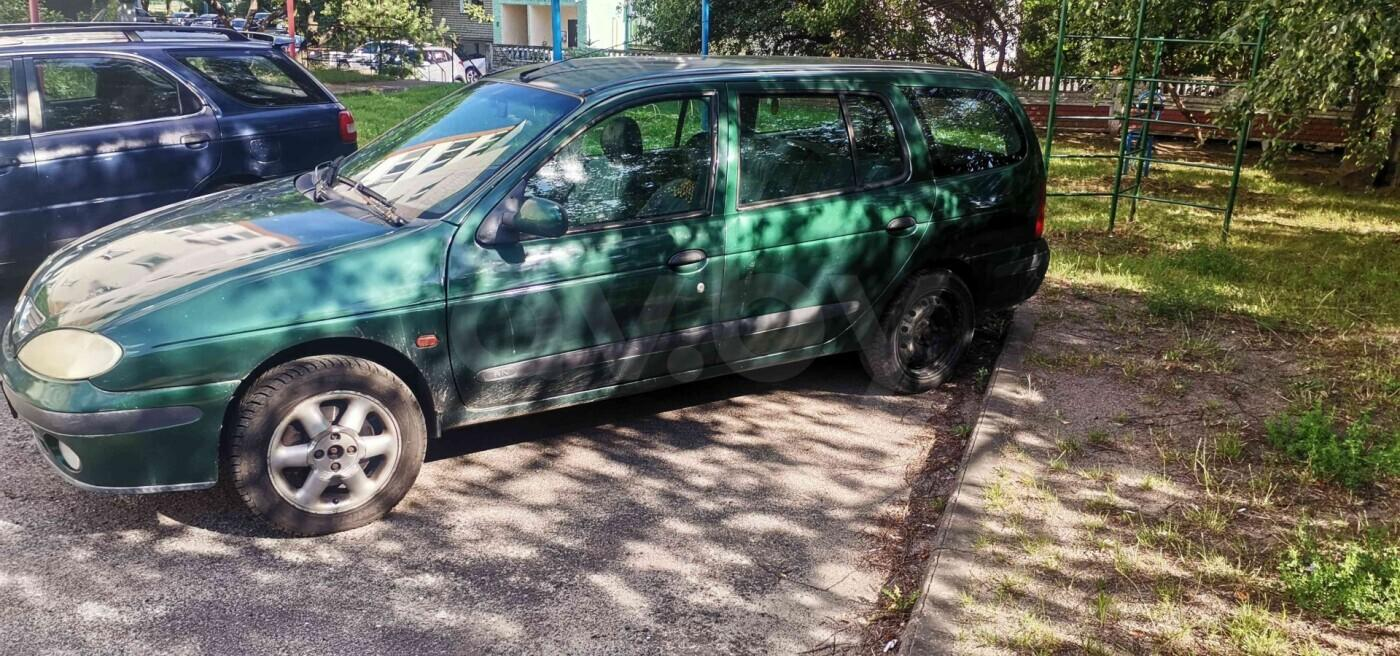Megane_1999-2003: (0, 51, 1051, 541)
